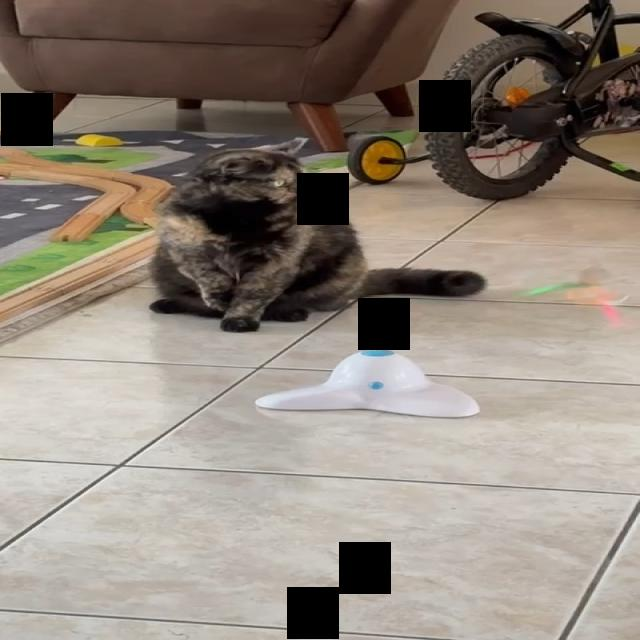authorized: (146, 136, 486, 333)
